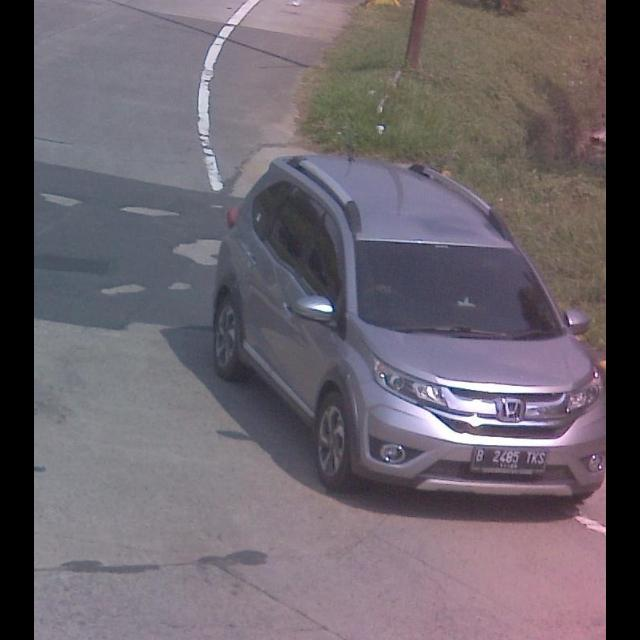plate: (474, 447, 548, 475)
